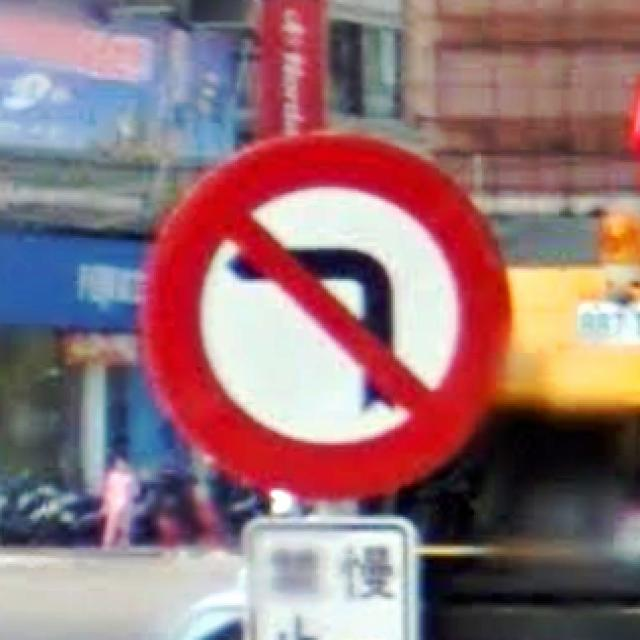noturnleft: (136, 123, 514, 501)
